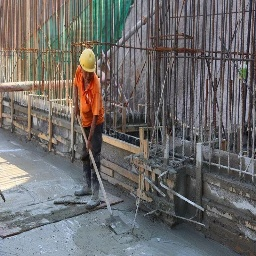helmet: (77, 49, 101, 74)
no-vest: (75, 69, 106, 128)
person: (72, 45, 106, 196)
